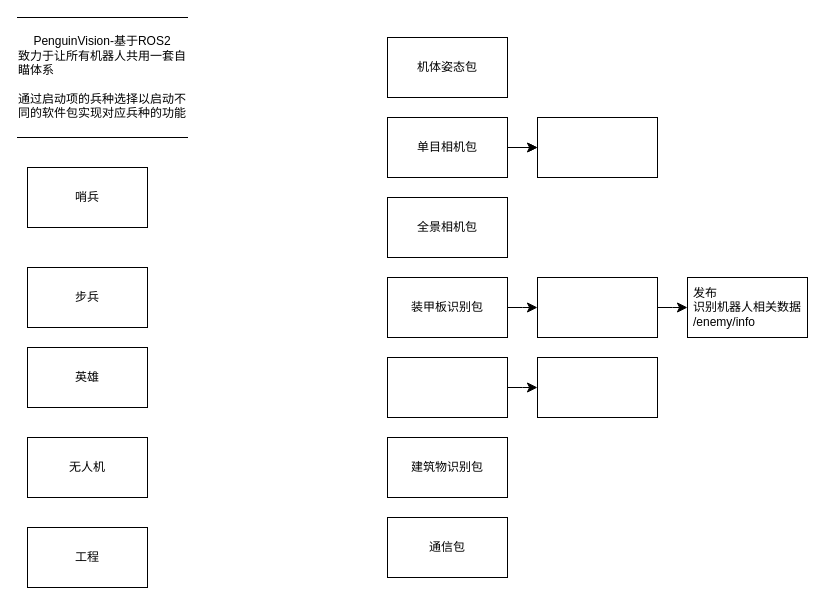
Some shapes in this 825 by 605 pixel diagram are drawn without their labels. The centre of each missing label's shape, as x and y in pixels:
"发布相机图像 /image/raw_image" belongs at point 597,147.
"能量机关识别包" belongs at point 447,387.
"订阅 /image/raw_image" belongs at point 597,307.
